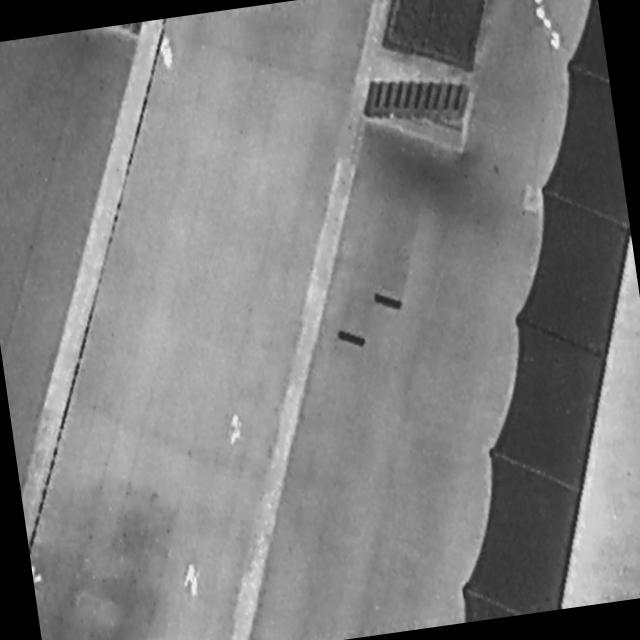person: (223, 409, 249, 451), (180, 562, 205, 600), (158, 34, 178, 72), (32, 563, 46, 588)
